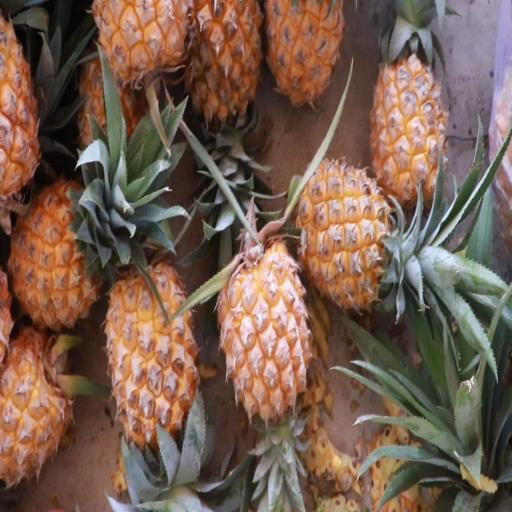Pineapple - v8 v1: (102, 253, 202, 455), (215, 241, 315, 433), (293, 156, 406, 320), (367, 0, 451, 211), (4, 170, 99, 338), (1, 322, 75, 498), (84, 0, 193, 102), (187, 0, 263, 133), (262, 0, 349, 111)
